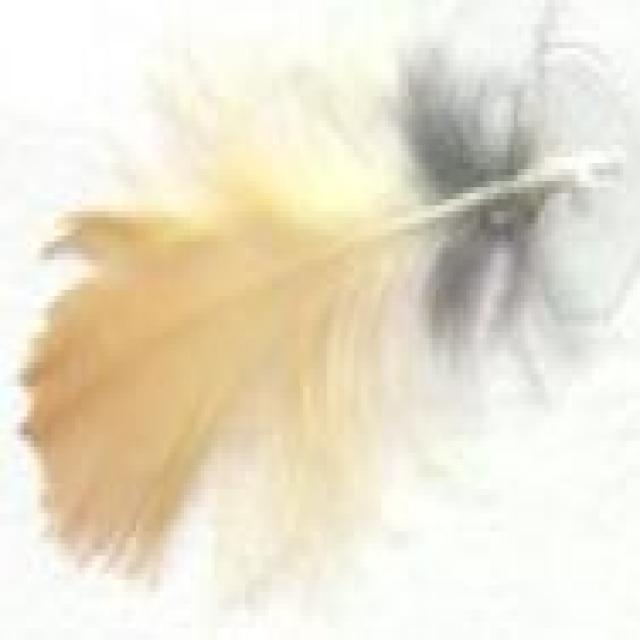feather: (10, 0, 640, 634)
